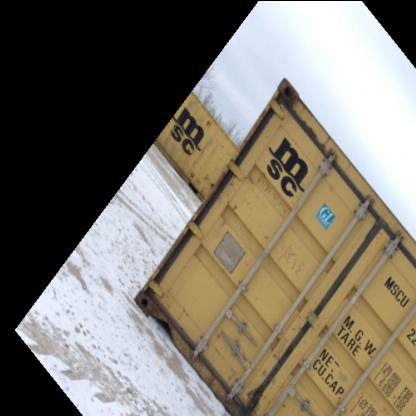Damage: (278, 76, 326, 146), (136, 280, 190, 328), (226, 366, 272, 406)
